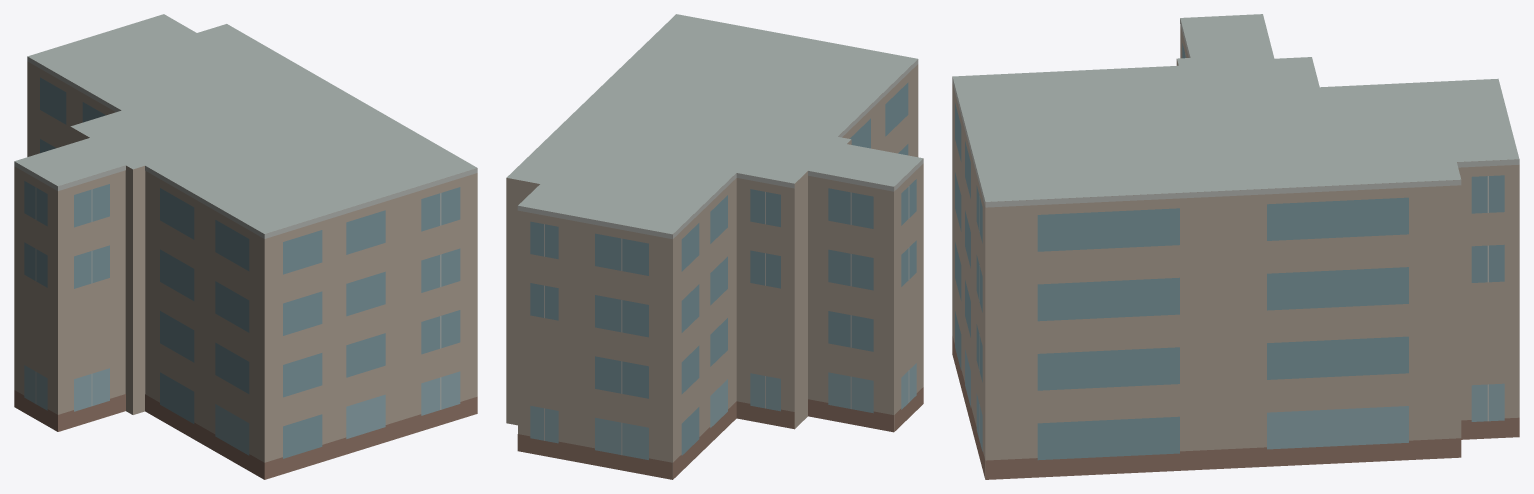
File: residential-b40ac46b-44ac-409f-b8fb-e0dc15e93bf1.glb
3 renders of one model, left to right at view 1: azimuth 30°, elevation 25°; view 2: azimuth 150°, elevation 25°; view 3: azimuth 270°, elevation 25°, orthographic. The views are drawn at different scales.
Parts seen in each view (by area): view 1: residential-b40ac46b-44ac-409f-b8fb-e0dc15e93bf1.tmp; view 2: residential-b40ac46b-44ac-409f-b8fb-e0dc15e93bf1.tmp; view 3: residential-b40ac46b-44ac-409f-b8fb-e0dc15e93bf1.tmp.
Part boxes in pixels (x1,y1,x2,y2): residential-b40ac46b-44ac-409f-b8fb-e0dc15e93bf1.tmp: (14,14,477,479); residential-b40ac46b-44ac-409f-b8fb-e0dc15e93bf1.tmp: (506,14,923,479); residential-b40ac46b-44ac-409f-b8fb-e0dc15e93bf1.tmp: (952,14,1519,479).
Bounding box in the file's own units: 17.71 × 12.2 × 22.58.
